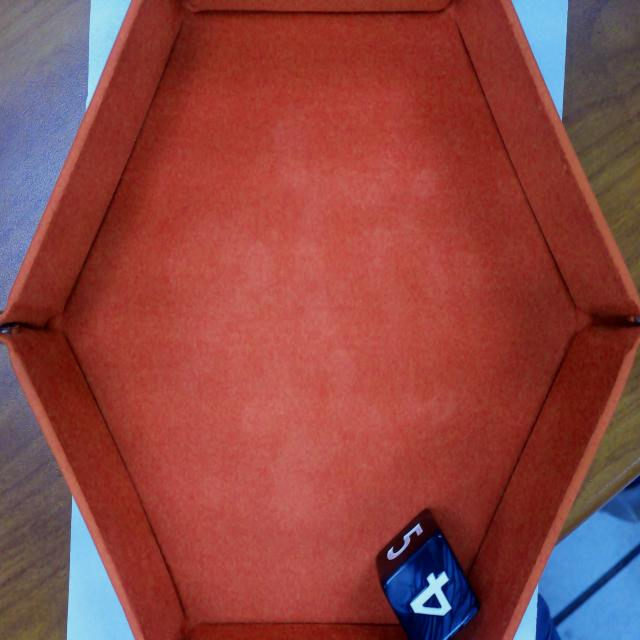dice: (384, 533, 482, 640)
